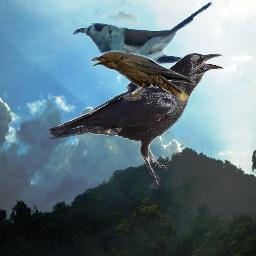Crow: (48, 52, 224, 189), (88, 49, 197, 101)
Cuckoo: (73, 0, 217, 72)
